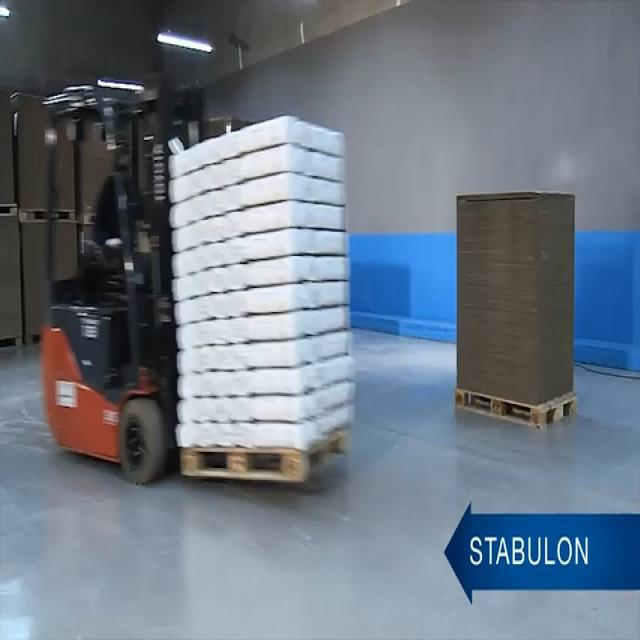Chariot elevateur: (45, 28, 247, 489)
Palette: (177, 429, 361, 487), (454, 378, 578, 431), (53, 205, 98, 227), (22, 203, 49, 228), (0, 331, 26, 356), (0, 198, 17, 222), (28, 325, 42, 352)
